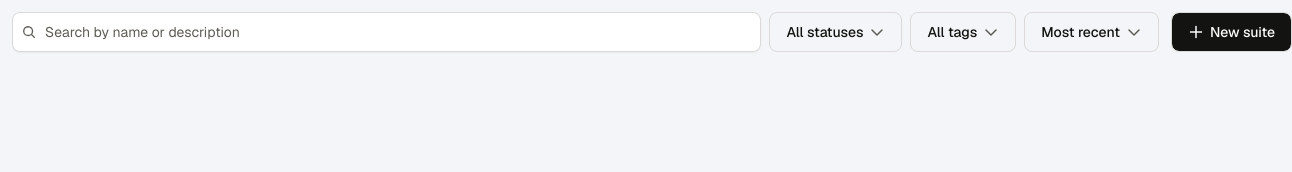
Test: SuiteListToolbar search › applies plain typing after the debounce, with no composition involved
Type "auth" into the search field with test id "suite-search".
click(387, 32); type("auth")  # box [12, 12, 761, 52]
Wait 300 ms
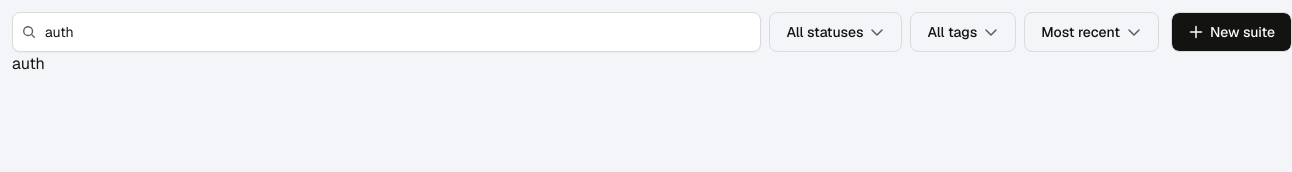
Expected: the text with test id "applied" reads "auth", [12, 53, 45, 74]
